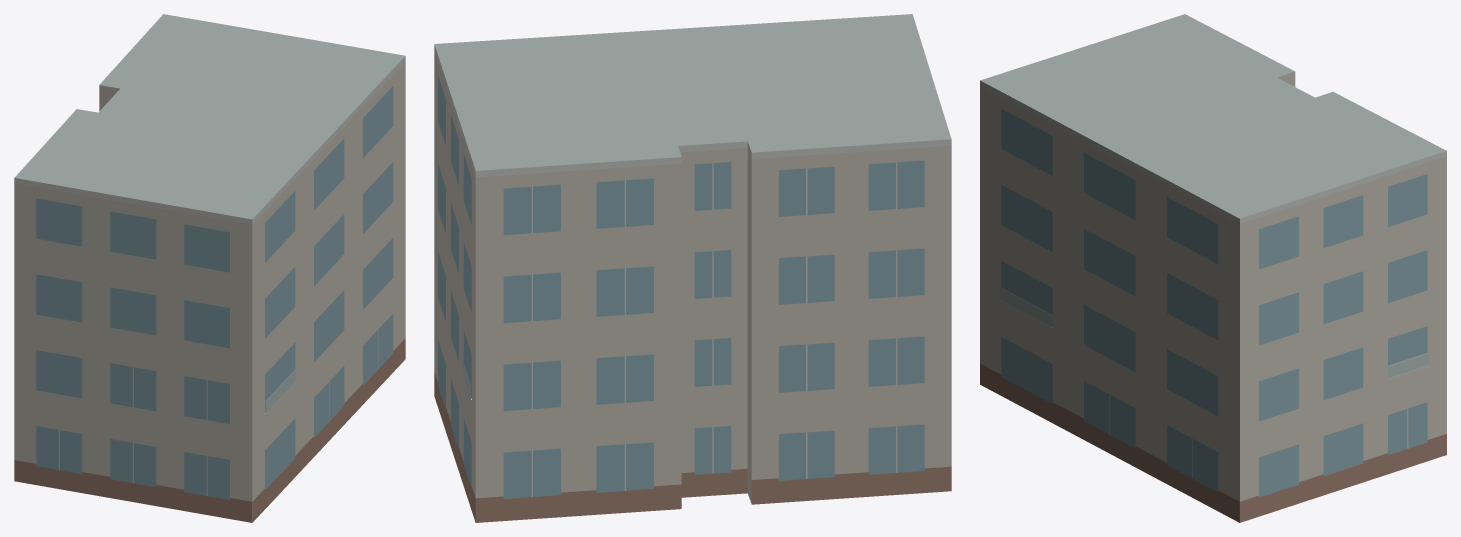
Rendered from survey-upis-32779654.glb.
The picture shows the model from 3 angles, left to right: view 1: azimuth 30°, elevation 25°; view 2: azimuth 150°, elevation 25°; view 3: azimuth 270°, elevation 25°; orthographic projection. The views are drawn at different scales.
Parts seen in each view (by area): view 1: survey-upis-32779654.tmp; view 2: survey-upis-32779654.tmp; view 3: survey-upis-32779654.tmp.
Part boxes in pixels (box(x1,y1,x2,y2)): survey-upis-32779654.tmp: box(14, 14, 405, 522); survey-upis-32779654.tmp: box(434, 14, 951, 522); survey-upis-32779654.tmp: box(980, 14, 1446, 522).
Size of the model in its own units: 19.35 by 13.4 by 18.65.
